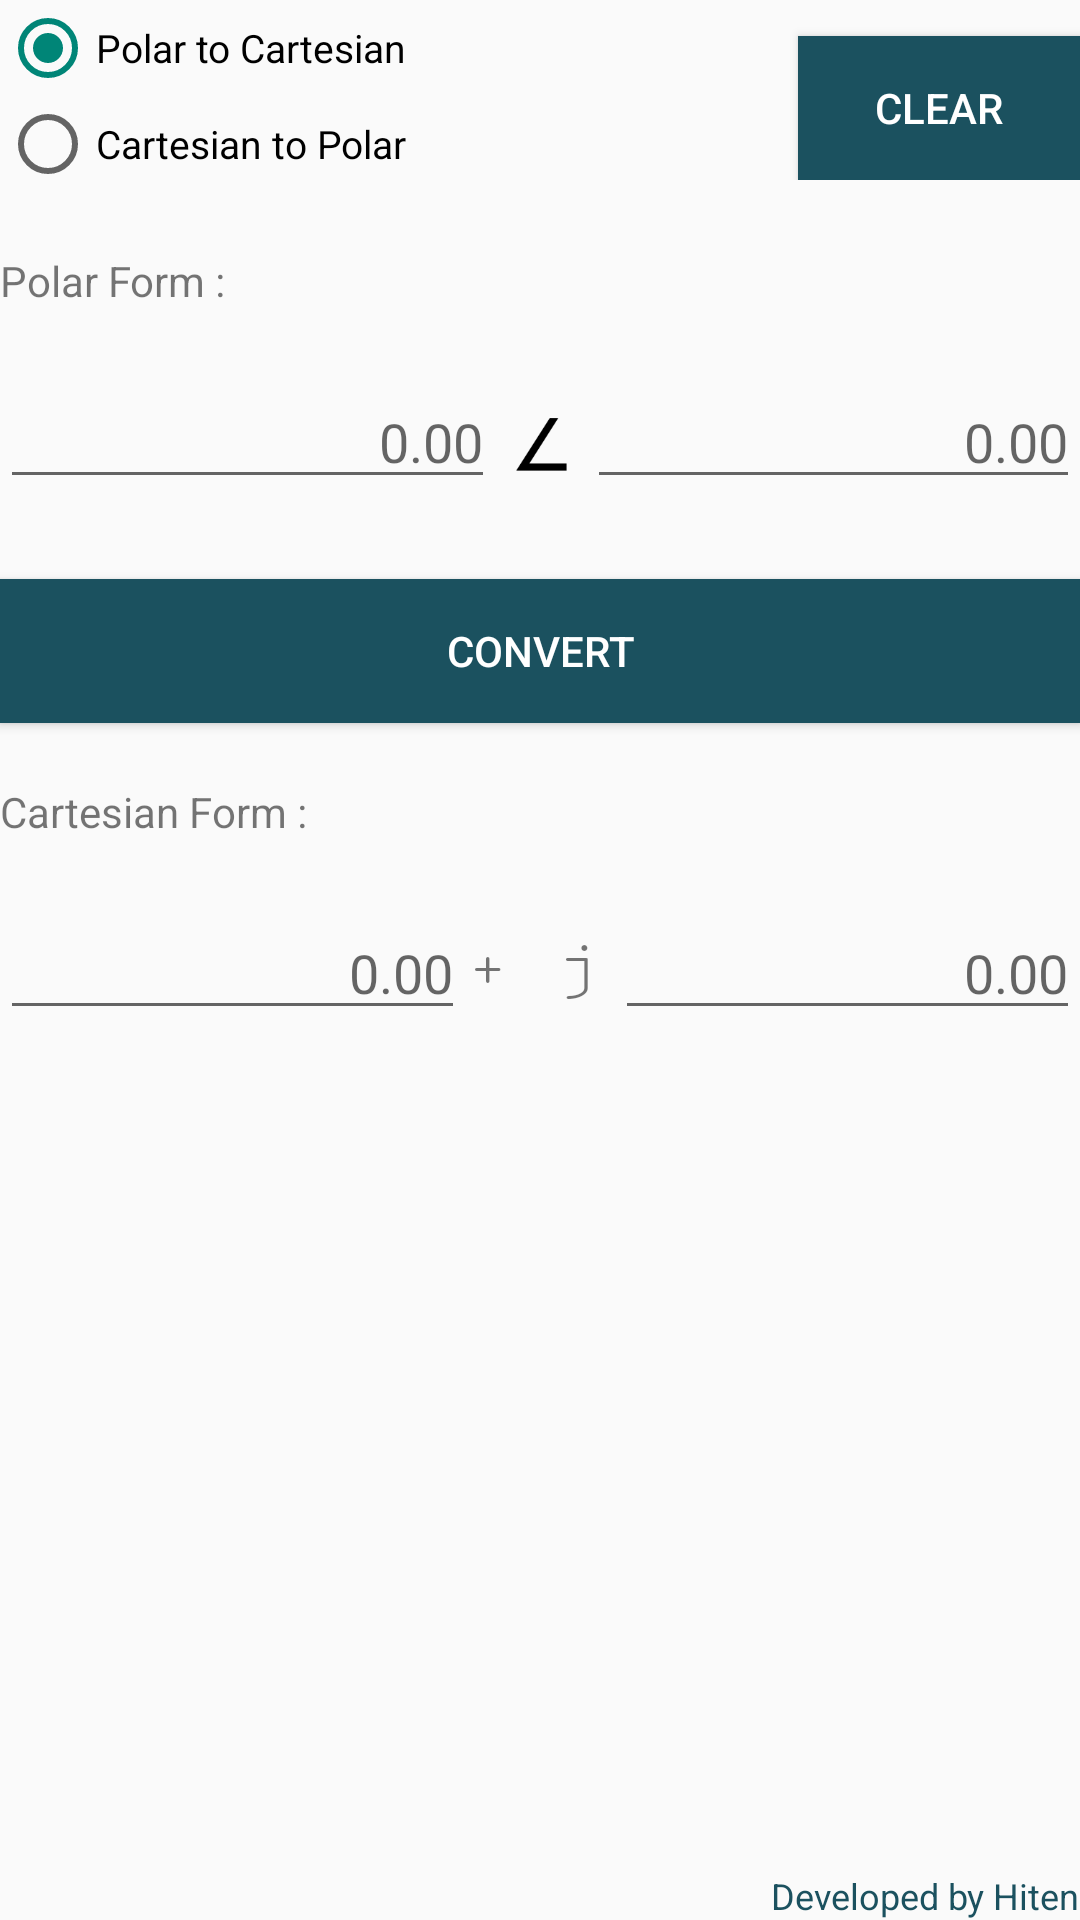

Where to tap for icons on this 1080px x 1920px app screen, as point (x, y):
Image of an Angle: point (541, 444)
